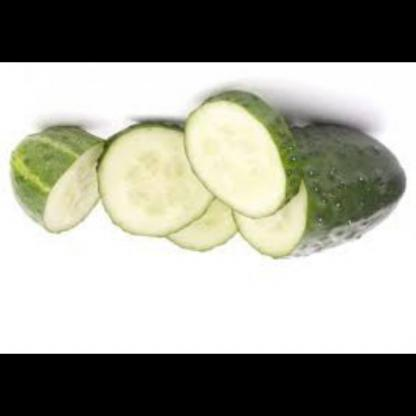cucumber: (229, 120, 409, 270), (175, 88, 316, 220), (91, 120, 214, 240), (7, 119, 105, 237), (159, 182, 239, 260)
